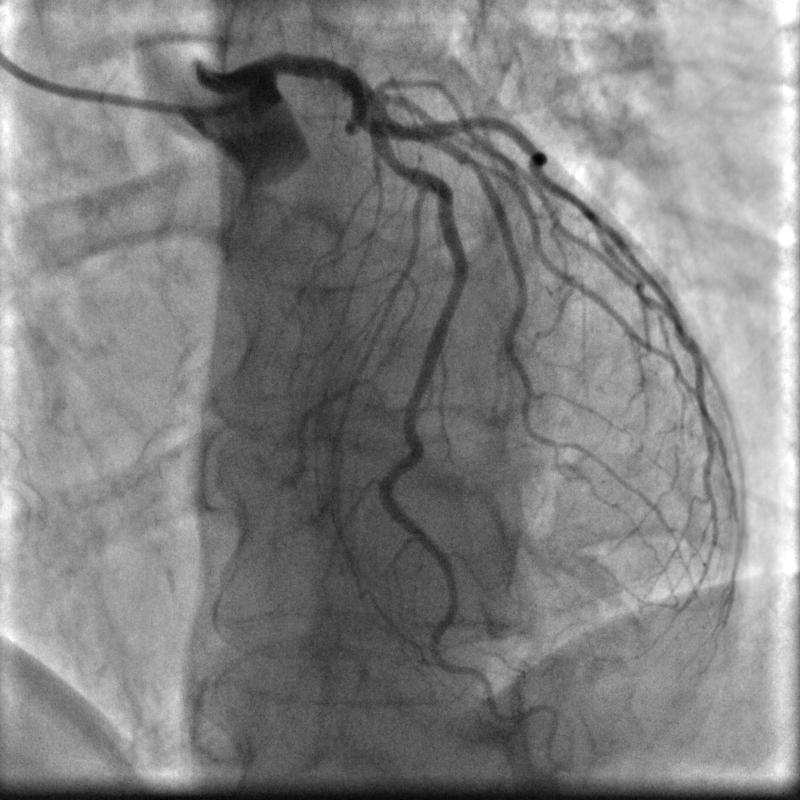Stenosis: (380, 151, 414, 173)
